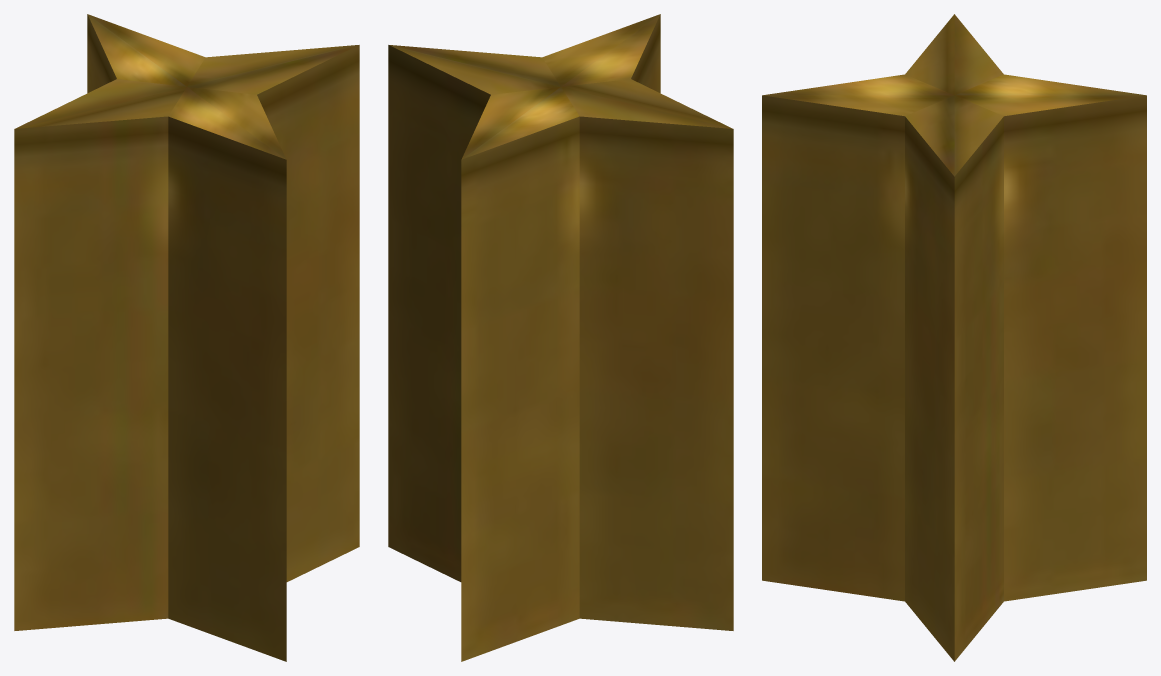
File: brass_star.glb
3 views of the same model, side by side, from view 1: azimuth 30°, elevation 25°; view 2: azimuth 150°, elevation 25°; view 3: azimuth 270°, elevation 25° (orthographic). The views are drawn at different scales.
Visible parts, largest first — view 1: props_0_0; view 2: props_0_0; view 3: props_0_0.
Boxes of the visible parts, box(x1,y1,x2,y2) form: props_0_0: box(14, 14, 359, 661); props_0_0: box(388, 14, 733, 661); props_0_0: box(762, 14, 1146, 661).
Bounding box in the file's own units: 0.44 × 0.612 × 0.44.
1 material, 1 textured.
